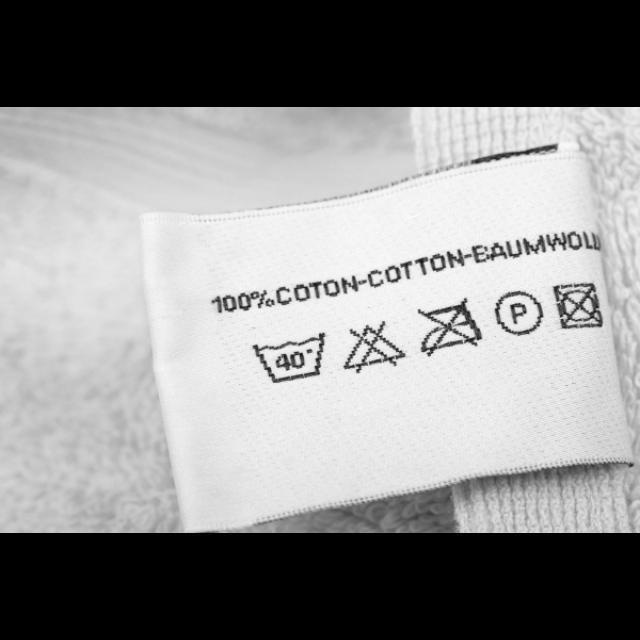40C: (250, 330, 328, 388)
DN_bleach: (342, 317, 408, 378)
DN_iron: (416, 296, 484, 358)
DN_tumble_dry: (550, 280, 604, 332)
normal_dry_clean_solvents: (494, 289, 544, 337)
